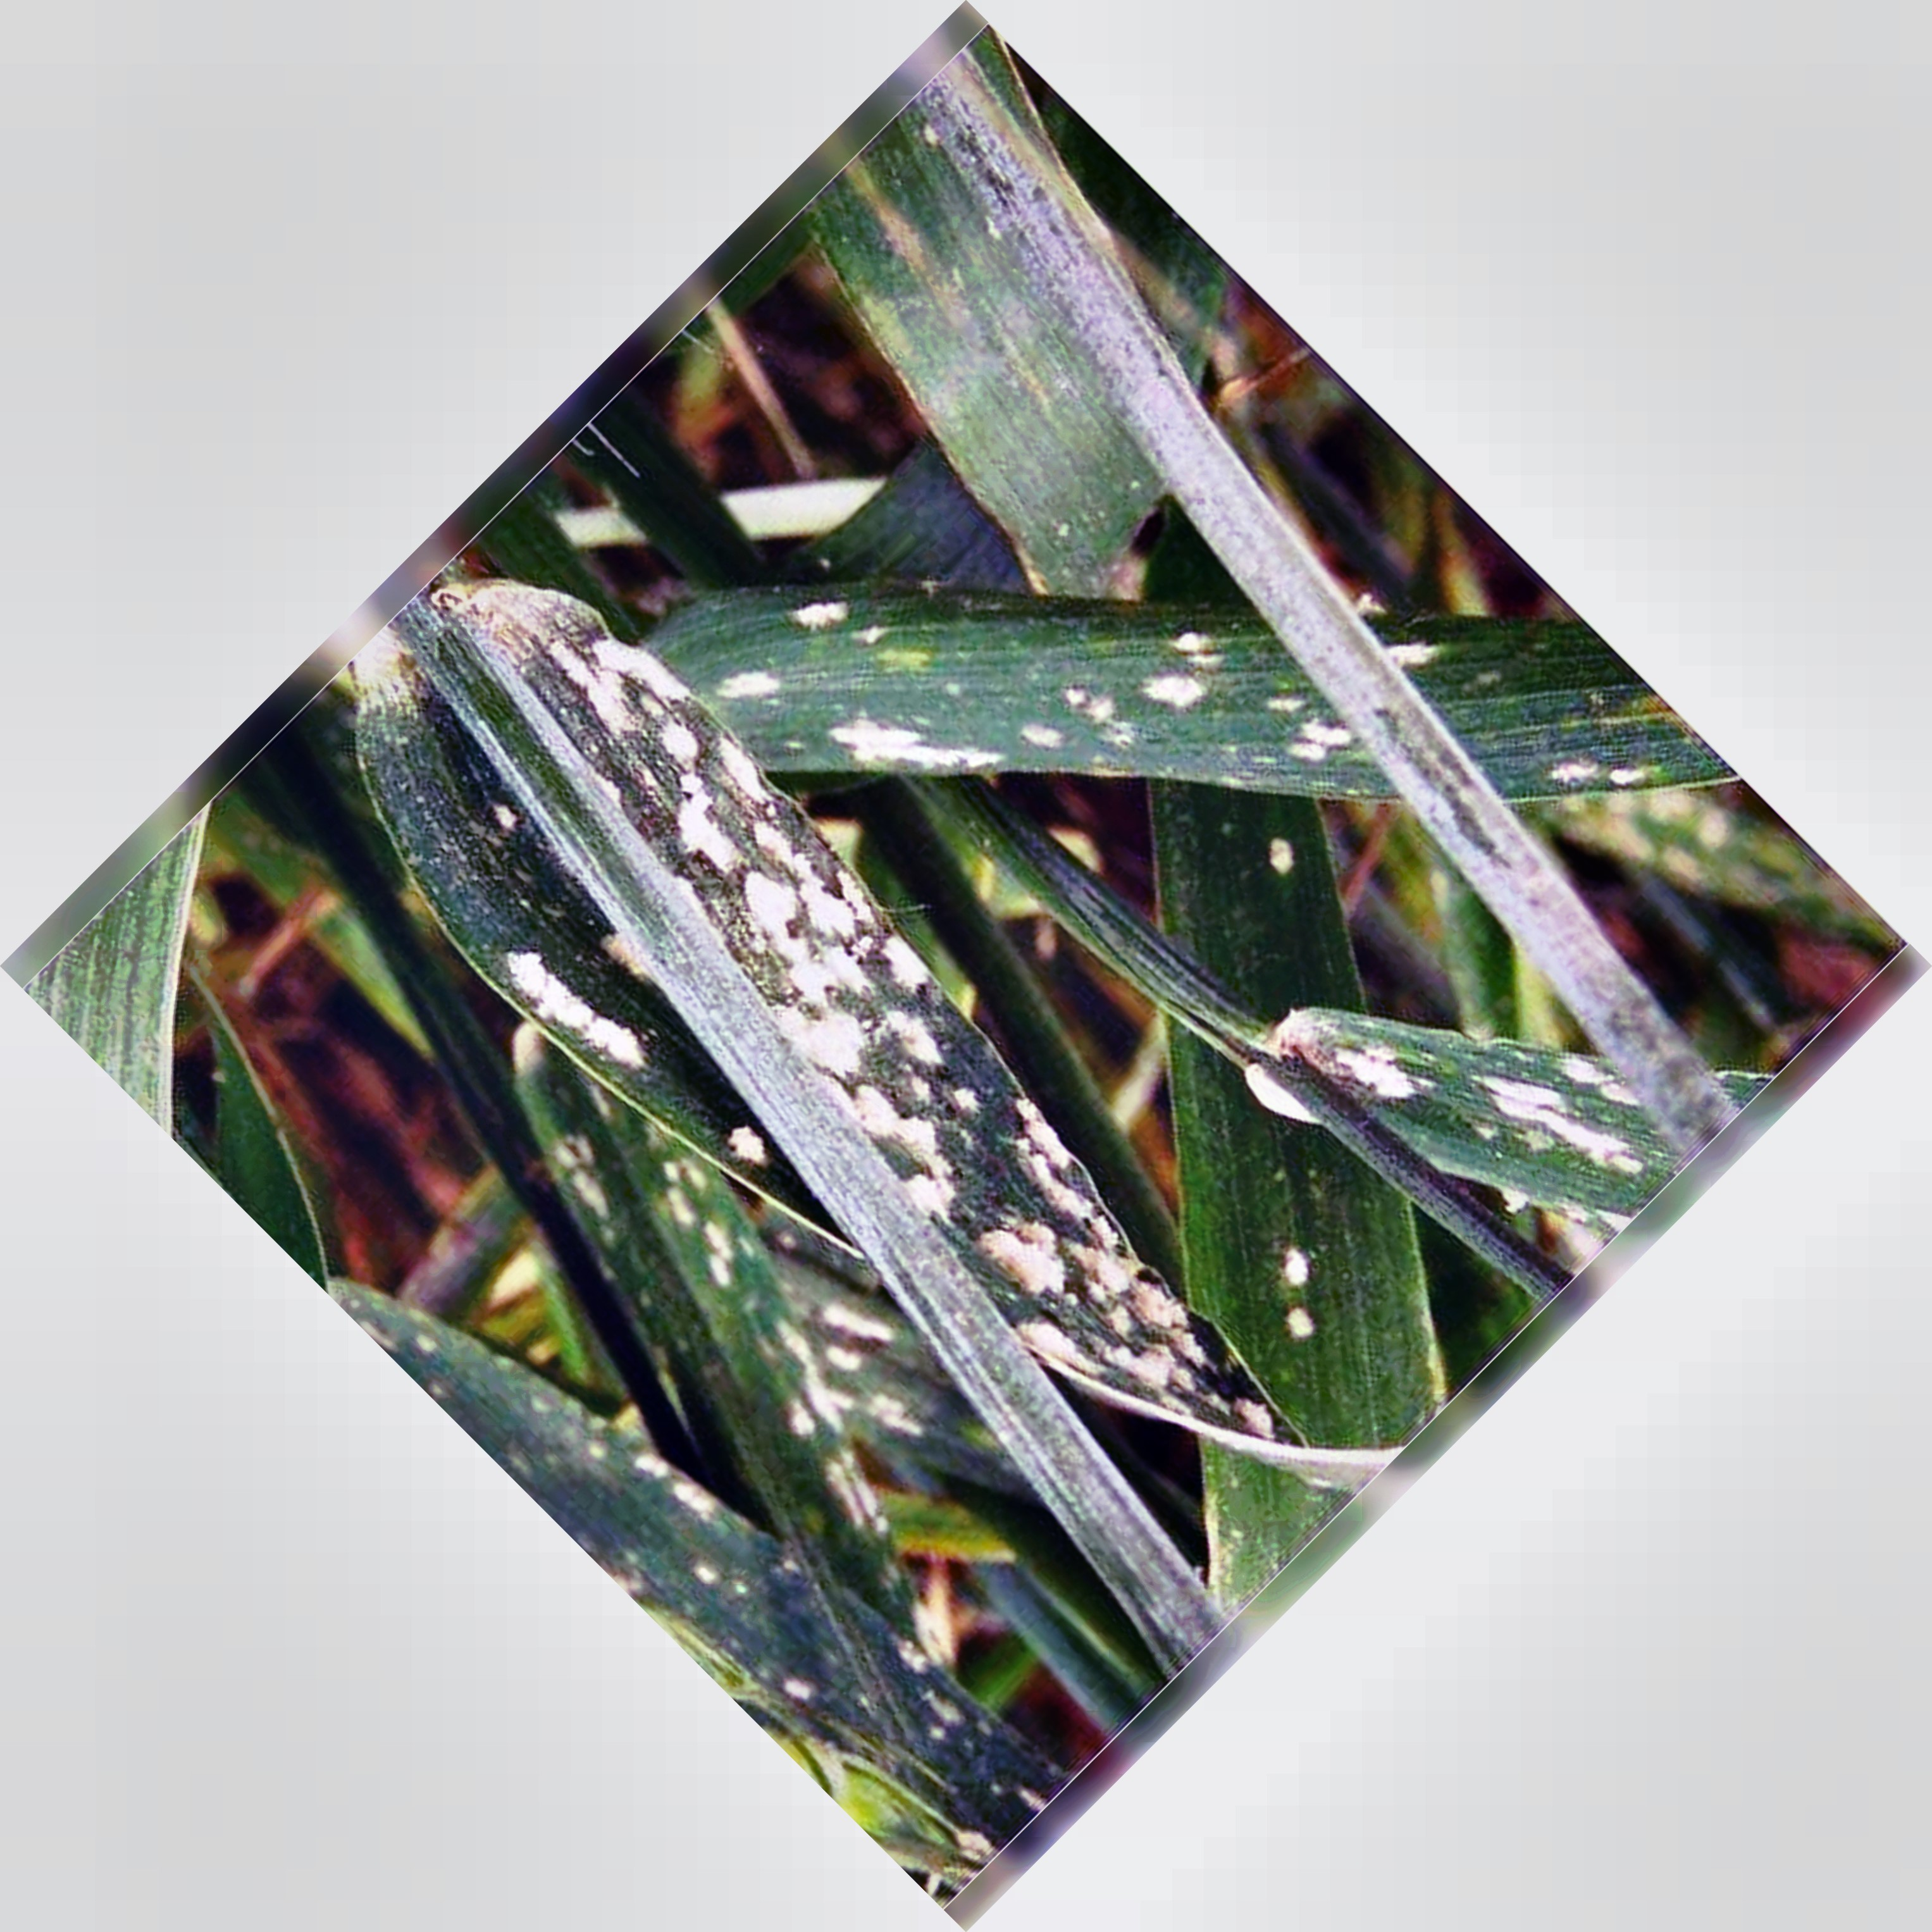Powdery Mildew: (644, 718, 1214, 1410)
